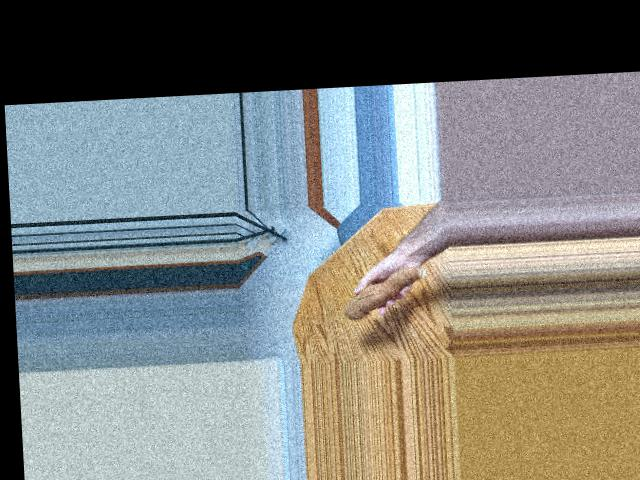sweet_potato: (339, 259, 429, 321)
